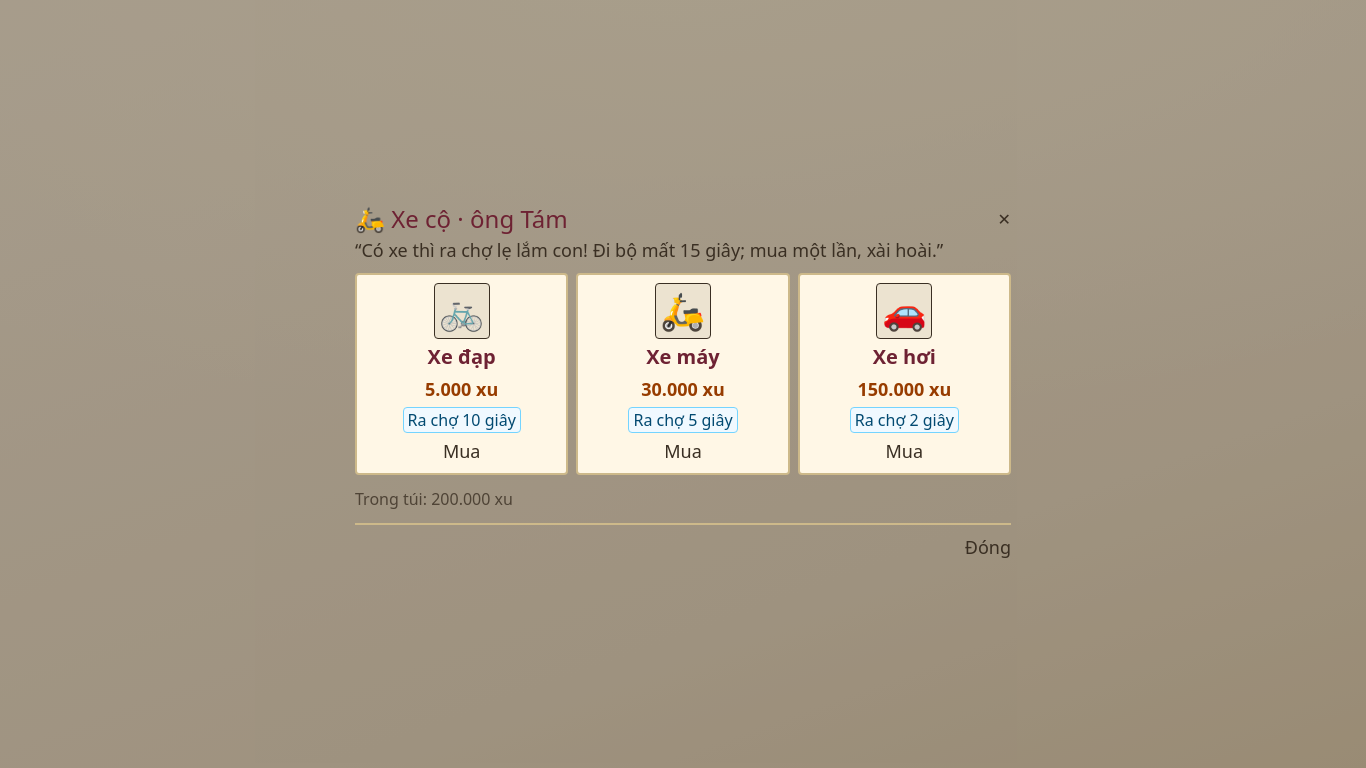
Test: VehicleShopModal › shows the Vietnamese refusal
Step 1. Click the button "Mua" below "Xe hơi" → (904, 451), box [886, 437, 923, 465]
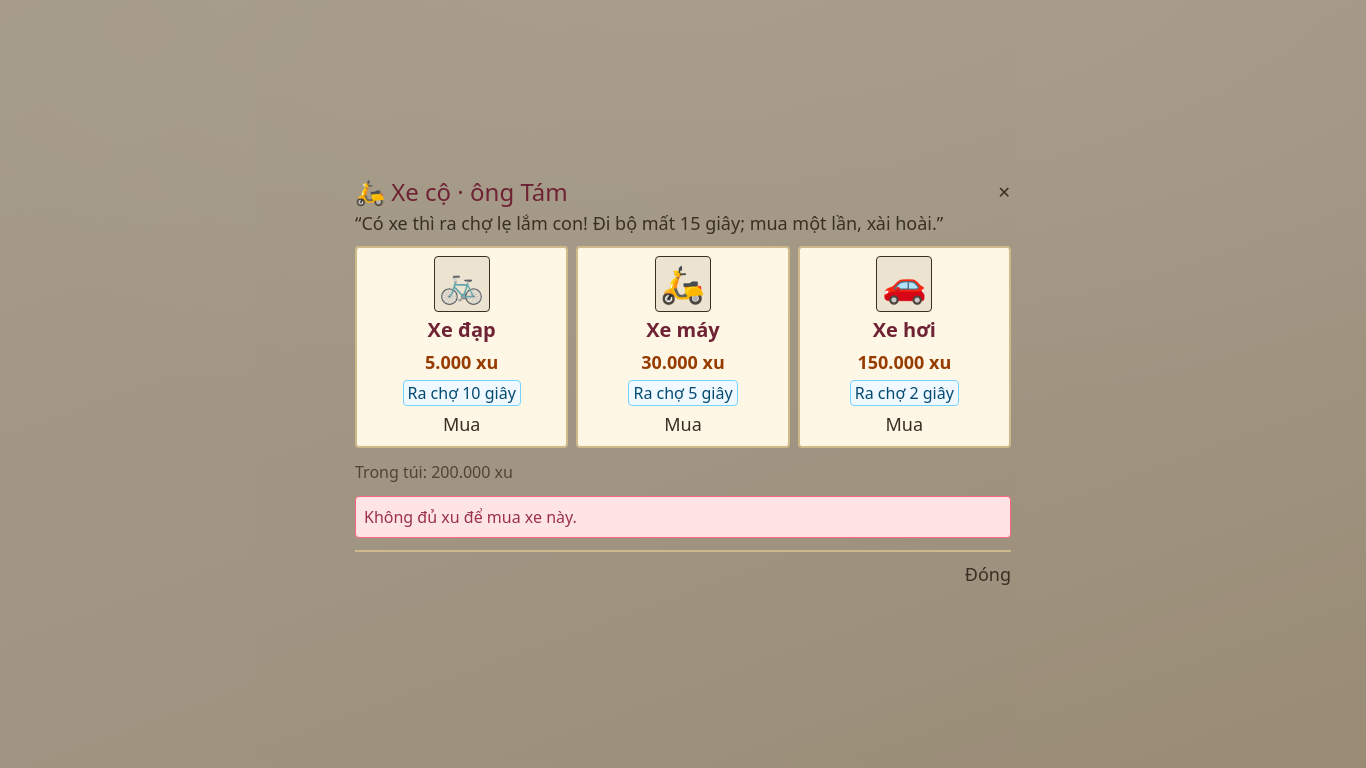
Expected: the message shows "Không đủ xu", [364, 506, 577, 528]
